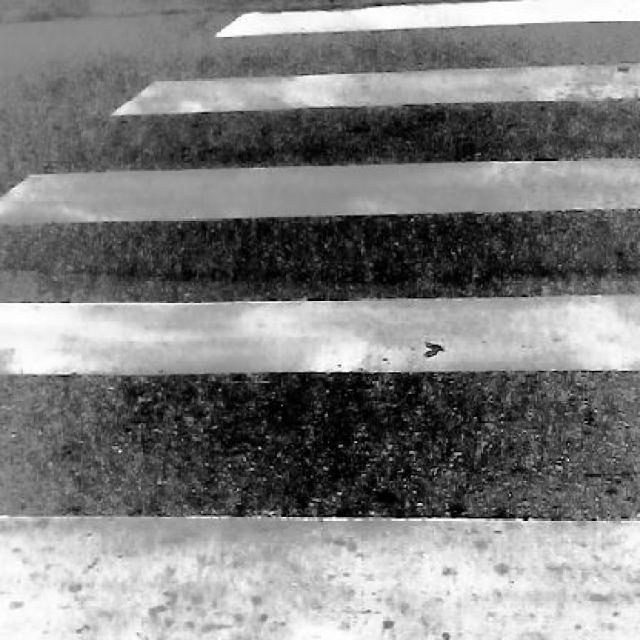crosswalk: (2, 1, 640, 523)
